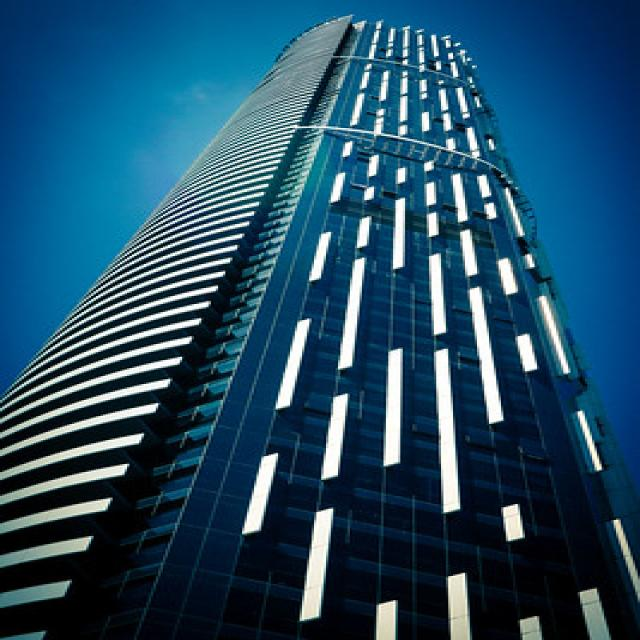building: (2, 9, 639, 640)
